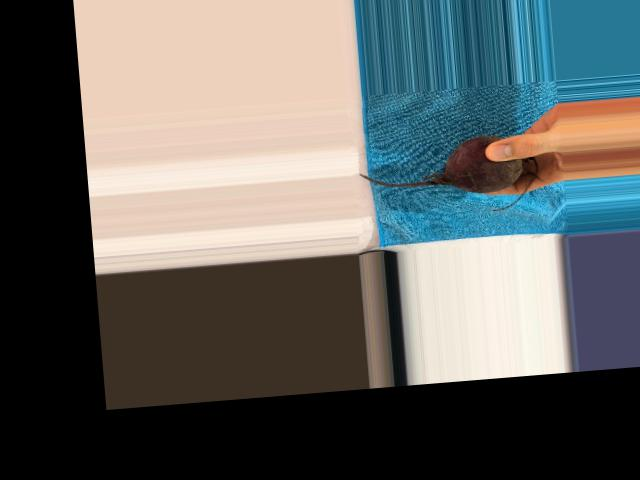beet: (356, 131, 540, 220)
